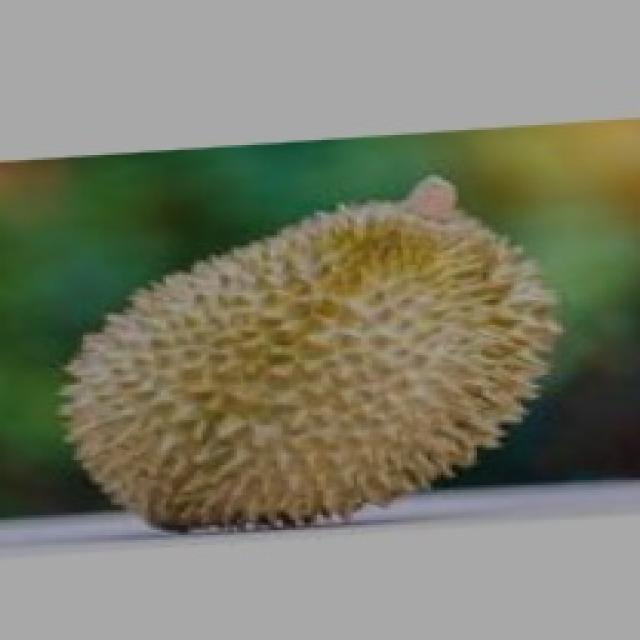fruit: (21, 200, 397, 565), (255, 175, 603, 555)
